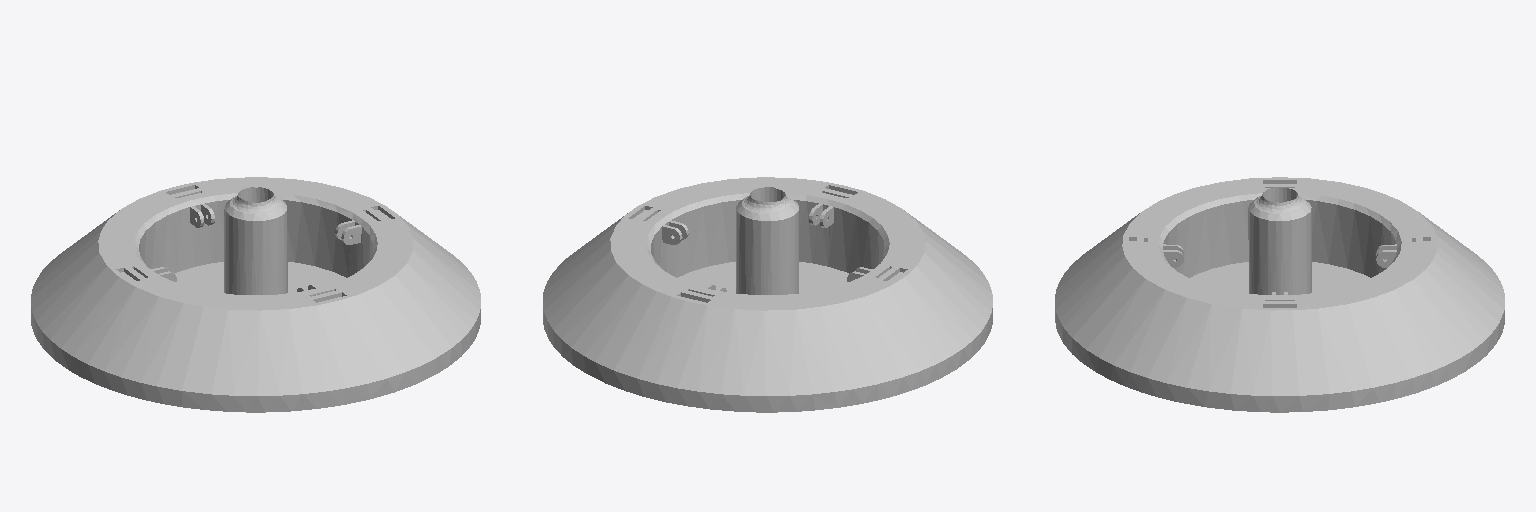
File: laser_emitter.obj
The picture shows the model from 3 angles: view 1: azimuth 30°, elevation 25°; view 2: azimuth 150°, elevation 25°; view 3: azimuth 270°, elevation 25°; orthographic projection.
Parts seen in each view (by area): view 1: Base_bit; view 2: Base_bit; view 3: Base_bit.
Part boxes in pixels (x1,y1,x2,y2): Base_bit: (31,177,480,412); Base_bit: (543,177,992,412); Base_bit: (1055,177,1504,412).
Bounding box in the file's own units: 1.92 × 0.5773 × 1.92.